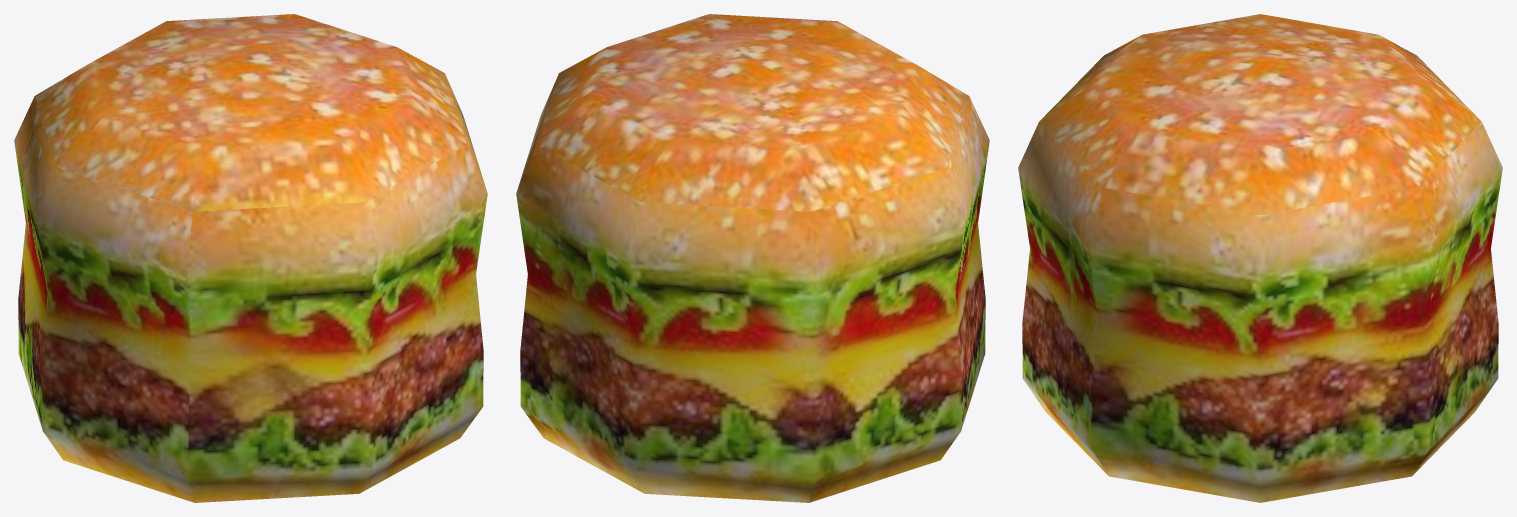
File: Burger_02-col.glb
3 renders of one model, left to right at view 1: azimuth 30°, elevation 25°; view 2: azimuth 150°, elevation 25°; view 3: azimuth 270°, elevation 25°, orthographic.
Visible parts, largest first — view 1: Burger_02-col; view 2: Burger_02-col; view 3: Burger_02-col.
Part boxes in pixels (bbox=[...]): Burger_02-col: bbox=[14, 14, 487, 502]; Burger_02-col: bbox=[516, 14, 989, 502]; Burger_02-col: bbox=[1018, 14, 1502, 502].
Size of the model in its own units: 0.1836 by 0.1437 by 0.1836.
Materials: 1 (1 with a texture image).
